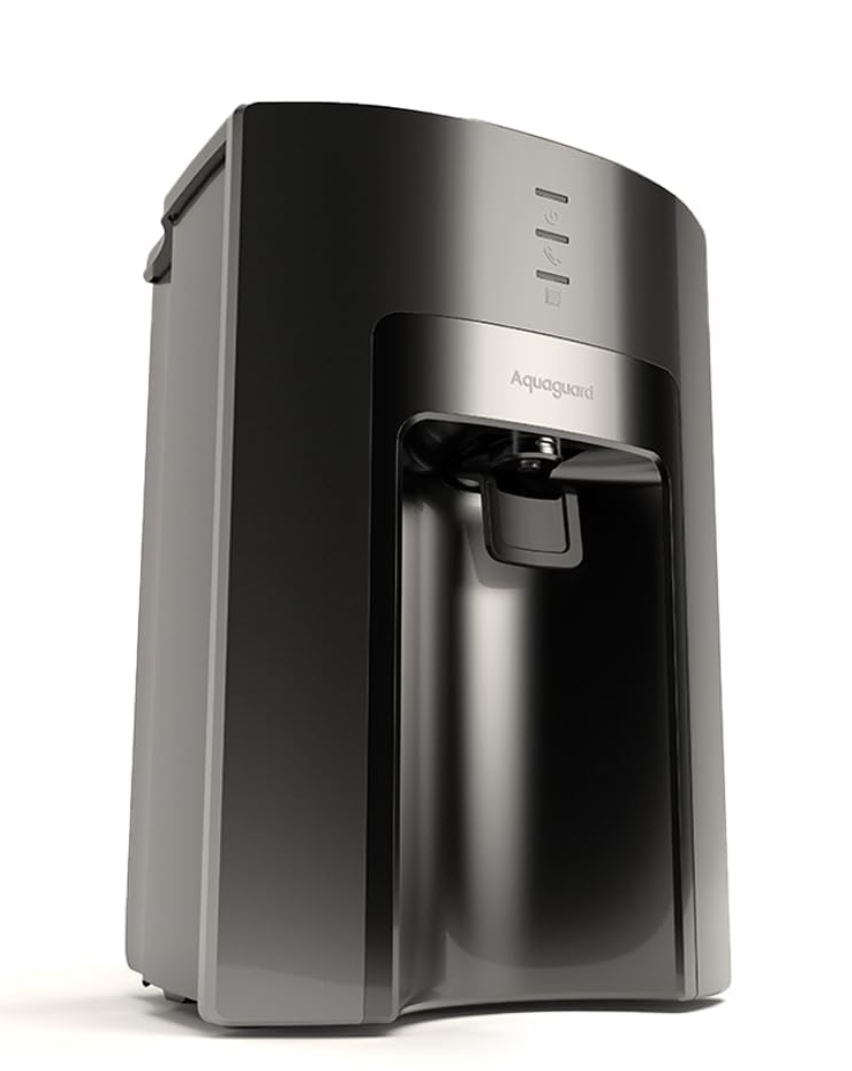water purifier: (122, 70, 749, 1041)
